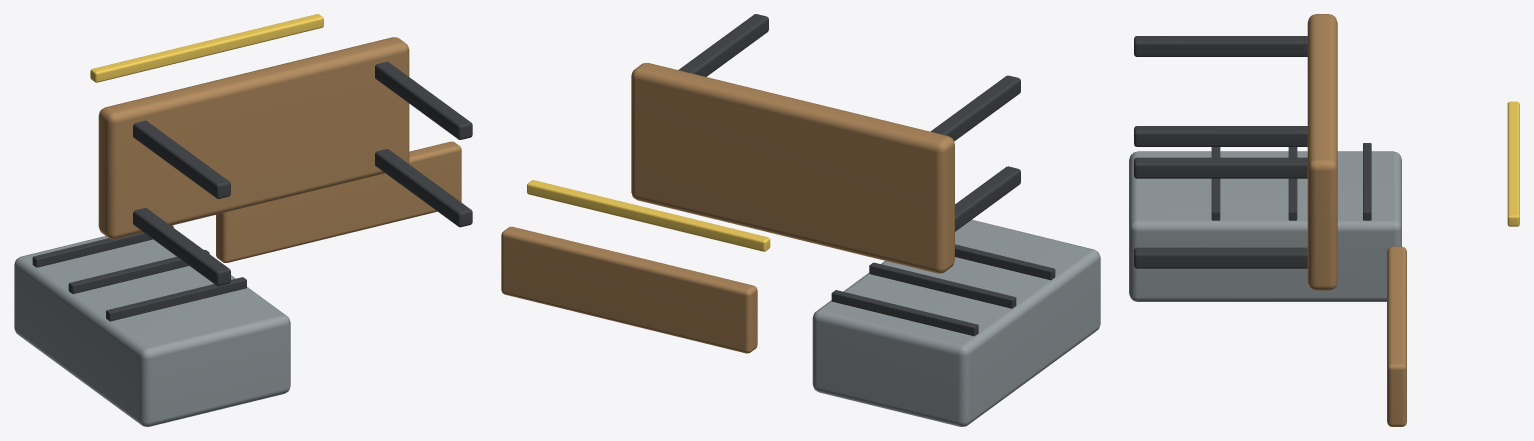
File: prop_interior_furniture_final.glb
3 renders of one model, left to right at view 1: azimuth 30°, elevation 25°; view 2: azimuth 150°, elevation 25°; view 3: azimuth 270°, elevation 25°, orthographic. The views are drawn at different scales.
Parts seen in each view (by area): view 1: workbench_scratched_tabletop, metal_storage_cabinet, open_wall_shelf, fluorescent_interior_light_bar, workbench_metal_leg_-0.58_0.2, workbench_metal_leg_-0.58_-0.2, workbench_metal_leg_0.58_-0.2, workbench_metal_leg_0.58_0.2, cabinet_shelf_line_0.35, cabinet_shelf_line_0.66, cabinet_shelf_line_0.96; view 2: workbench_scratched_tabletop, metal_storage_cabinet, open_wall_shelf, fluorescent_interior_light_bar, workbench_metal_leg_-0.58_0.2, workbench_metal_leg_0.58_0.2, cabinet_shelf_line_0.66, cabinet_shelf_line_0.96, workbench_metal_leg_-0.58_-0.2, cabinet_shelf_line_0.35; view 3: metal_storage_cabinet, workbench_scratched_tabletop, workbench_metal_leg_0.58_-0.2, workbench_metal_leg_0.58_0.2, workbench_metal_leg_-0.58_-0.2, workbench_metal_leg_-0.58_0.2, open_wall_shelf, fluorescent_interior_light_bar, cabinet_shelf_line_0.96, cabinet_shelf_line_0.35, cabinet_shelf_line_0.66.
Boxes of the visible parts, x1,y1,x2,y2 form: workbench_scratched_tabletop: [98, 37, 409, 239]; metal_storage_cabinet: [14, 236, 290, 426]; open_wall_shelf: [216, 141, 461, 262]; fluorescent_interior_light_bar: [90, 14, 323, 82]; workbench_metal_leg_-0.58_0.2: [133, 120, 230, 198]; workbench_metal_leg_-0.58_-0.2: [133, 208, 230, 286]; workbench_metal_leg_0.58_-0.2: [375, 149, 472, 227]; workbench_metal_leg_0.58_0.2: [375, 61, 472, 139]; cabinet_shelf_line_0.35: [106, 277, 246, 321]; cabinet_shelf_line_0.66: [68, 250, 209, 293]; cabinet_shelf_line_0.96: [32, 225, 173, 267]; workbench_scratched_tabletop: [631, 63, 954, 273]; metal_storage_cabinet: [812, 219, 1100, 426]; open_wall_shelf: [501, 226, 757, 353]; fluorescent_interior_light_bar: [527, 180, 770, 251]; workbench_metal_leg_-0.58_0.2: [930, 75, 1020, 141]; workbench_metal_leg_0.58_0.2: [678, 14, 768, 76]; cabinet_shelf_line_0.66: [869, 262, 1016, 308]; cabinet_shelf_line_0.96: [831, 290, 978, 336]; workbench_metal_leg_-0.58_-0.2: [955, 166, 1020, 231]; cabinet_shelf_line_0.35: [955, 244, 1055, 280]; metal_storage_cabinet: [1129, 151, 1401, 301]; workbench_scratched_tabletop: [1307, 14, 1337, 290]; workbench_metal_leg_0.58_-0.2: [1134, 247, 1307, 268]; workbench_metal_leg_0.58_0.2: [1134, 157, 1307, 178]; workbench_metal_leg_-0.58_-0.2: [1134, 126, 1307, 146]; workbench_metal_leg_-0.58_0.2: [1134, 36, 1307, 56]; open_wall_shelf: [1387, 246, 1406, 426]; fluorescent_interior_light_bar: [1507, 101, 1519, 226]; cabinet_shelf_line_0.96: [1363, 143, 1371, 220]; cabinet_shelf_line_0.35: [1211, 147, 1220, 220]; cabinet_shelf_line_0.66: [1288, 147, 1297, 220].
Size of the model in its own units: 2.13 by 1.09 by 1.57.
